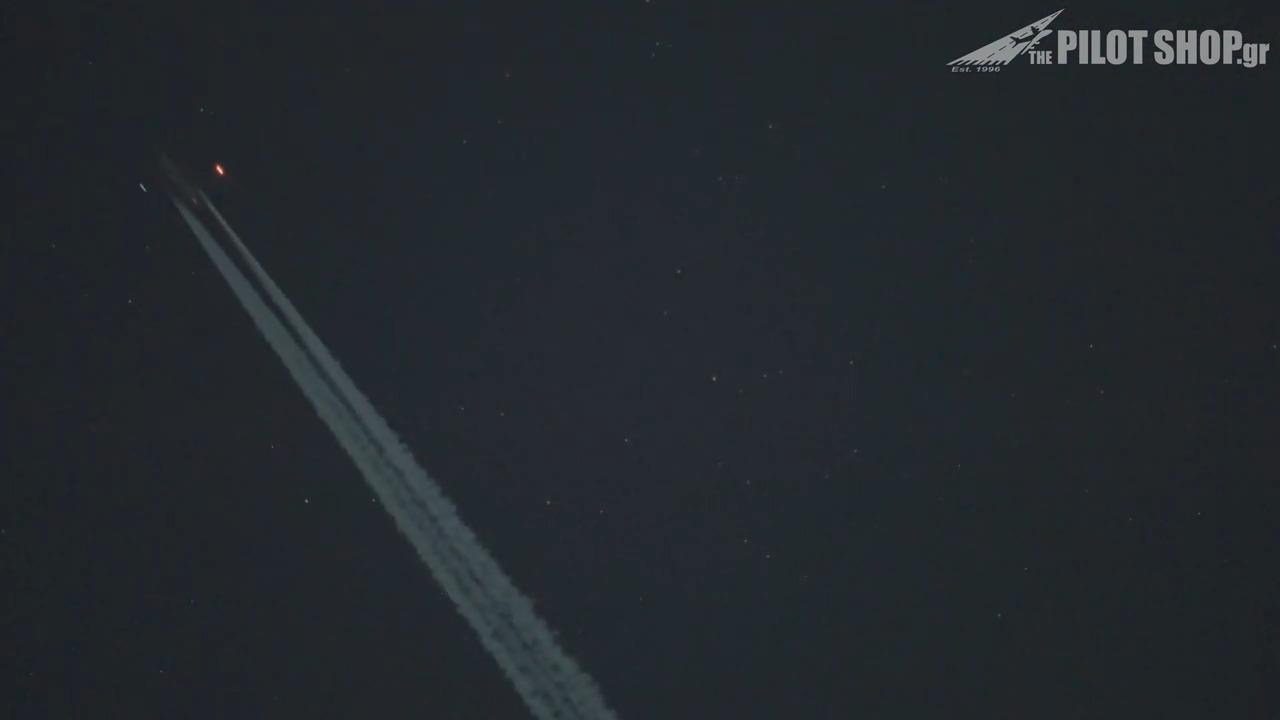Plane: (115, 137, 339, 377)
